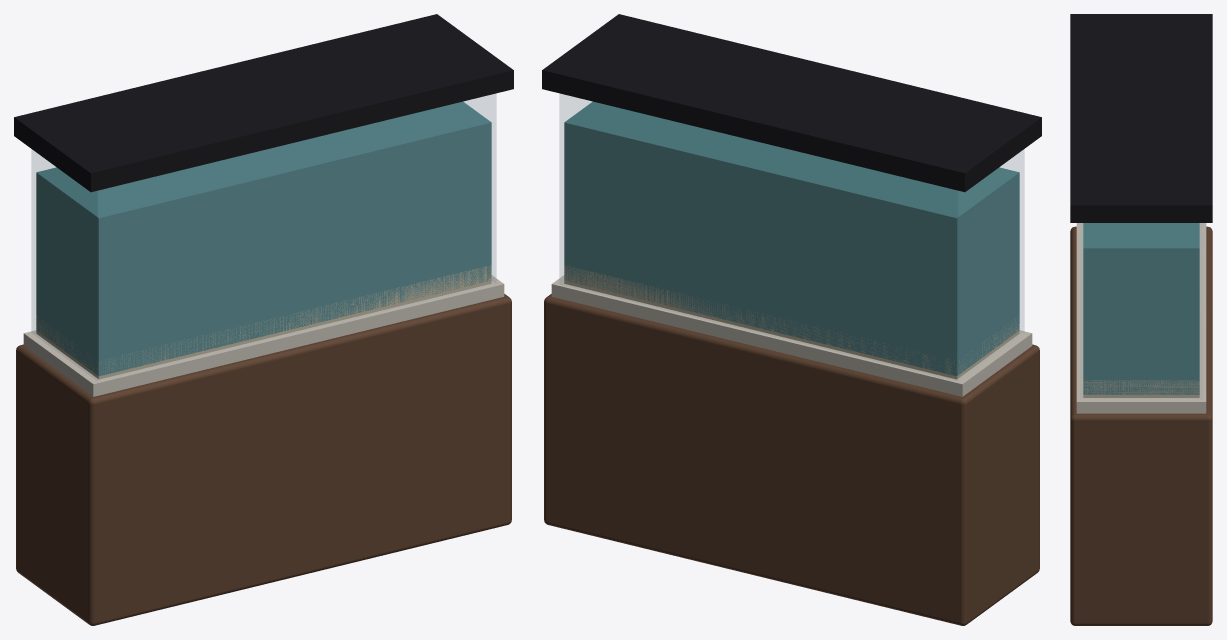
The model's file is aquario.glb.
The picture shows the model from 3 angles, left to right: view 1: azimuth 30°, elevation 25°; view 2: azimuth 150°, elevation 25°; view 3: azimuth 270°, elevation 25°; orthographic projection. The views are drawn at different scales.
Visible parts, largest first — view 1: aquario_malha; view 2: aquario_malha; view 3: aquario_malha.
Boxes of the visible parts, <box> form: aquario_malha: <box>14,14,513,625</box>; aquario_malha: <box>542,14,1041,625</box>; aquario_malha: <box>1070,14,1212,625</box>.
Size of the model in its own units: 1.4 by 1.44 by 0.44.
